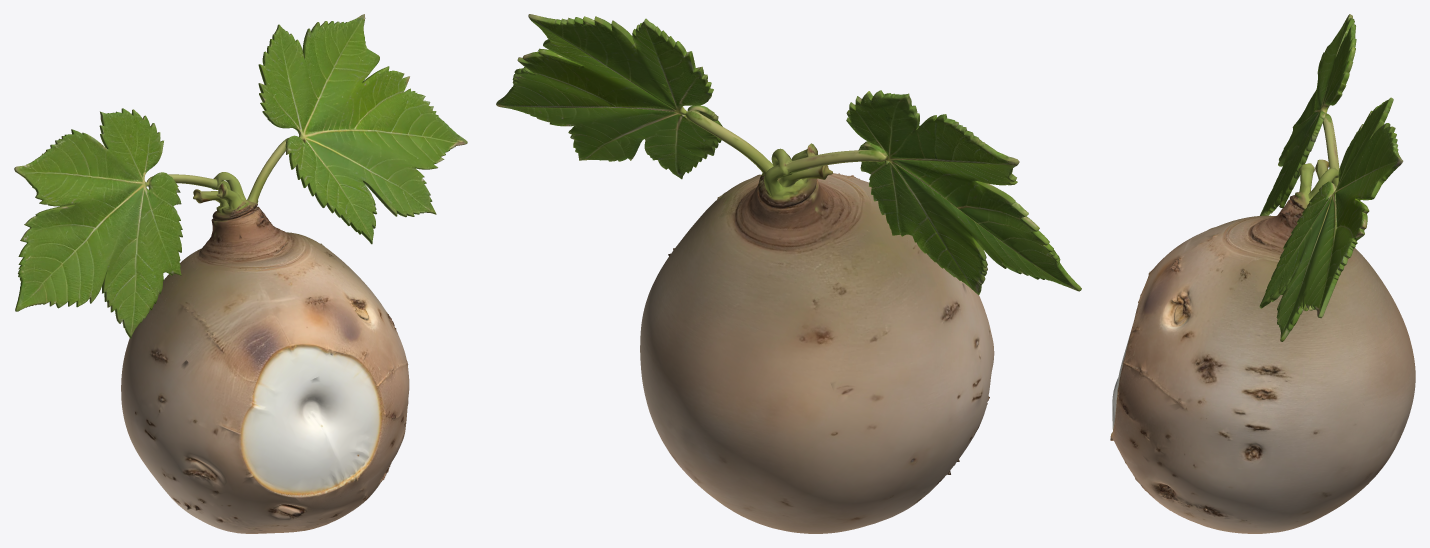
The model's file is gegen.glb.
3 views of the same model, side by side, from view 1: azimuth 30°, elevation 25°; view 2: azimuth 150°, elevation 25°; view 3: azimuth 270°, elevation 25° (orthographic). The views are drawn at different scales.
Visible parts, largest first — view 1: node_0; view 2: node_0; view 3: node_0.
Part boxes in pixels (x1,y1,x2,y2): node_0: (14, 14, 467, 533); node_0: (496, 14, 1081, 533); node_0: (1110, 14, 1415, 533).
Bounding box in the file's own units: 0.9991 × 0.8903 × 0.5355.
Materials: 1 (1 with a texture image).
